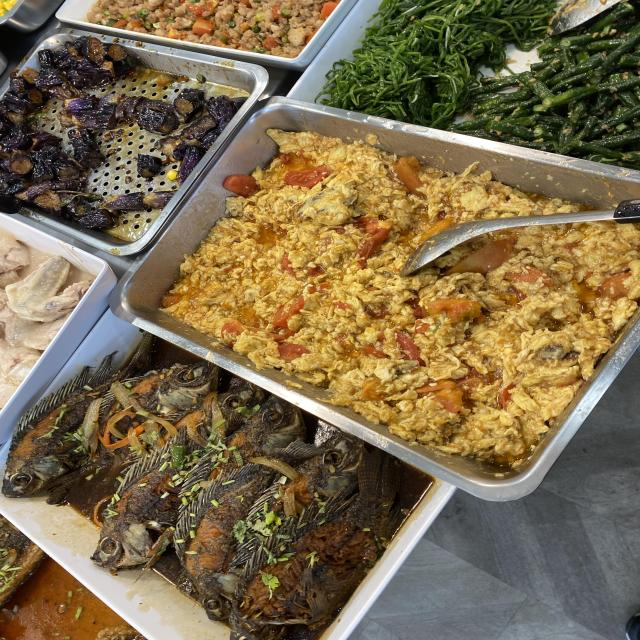Scramble Egg with Tomatoes: (238, 202, 399, 350)
